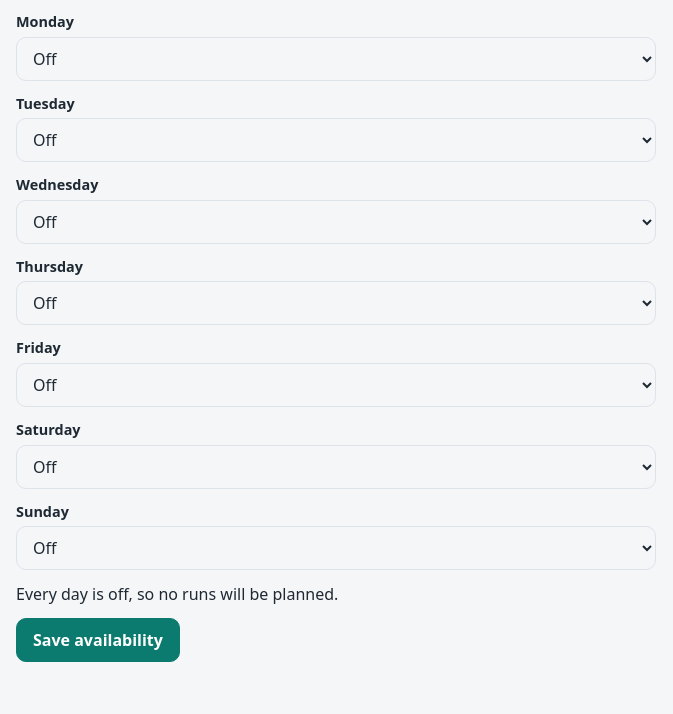
AvailabilityEditor › warns when every day is off and still saves
Check: the text "Every day is off, so no runs will be planned." is shown, box [16,583,338,605]
Click the button "Save availability".
click(98, 640)  # box [16,618,180,662]
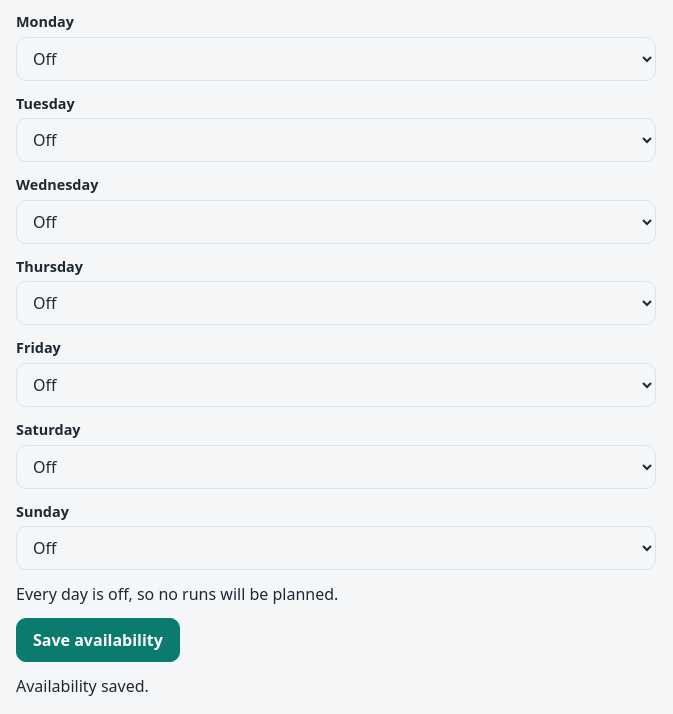
Check: the text "Availability saved." is shown, box [16,675,149,697]
